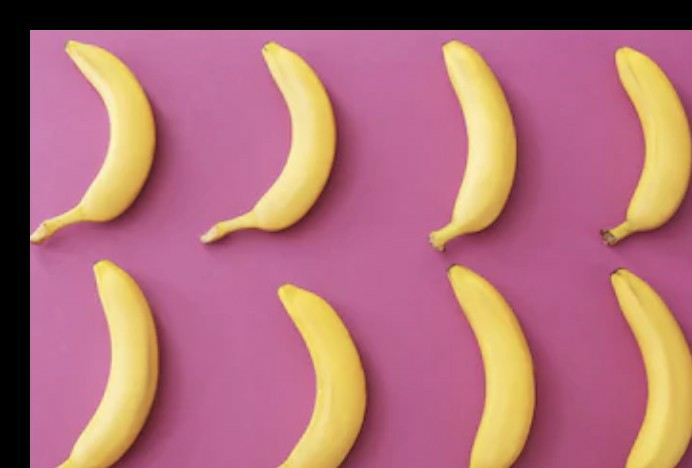fresh_banana: (204, 43, 338, 242), (51, 257, 161, 468), (41, 42, 158, 237), (441, 264, 537, 468), (273, 284, 370, 468), (433, 41, 518, 247), (608, 48, 691, 243), (611, 270, 692, 468)
